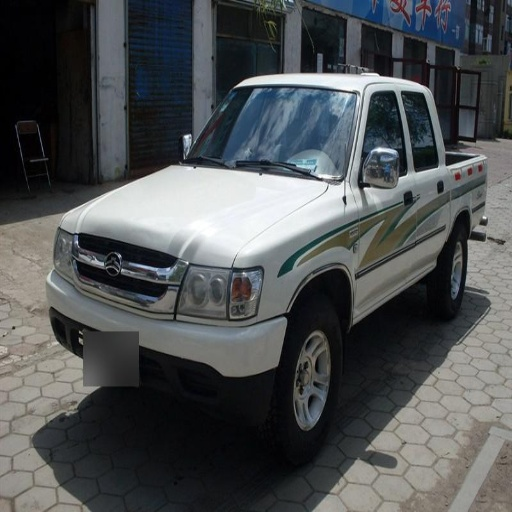front_bumper: (47, 232, 286, 431)
front_glass: (181, 86, 360, 183)
front_left_door: (358, 89, 415, 310)
trunk: (449, 159, 485, 216)
